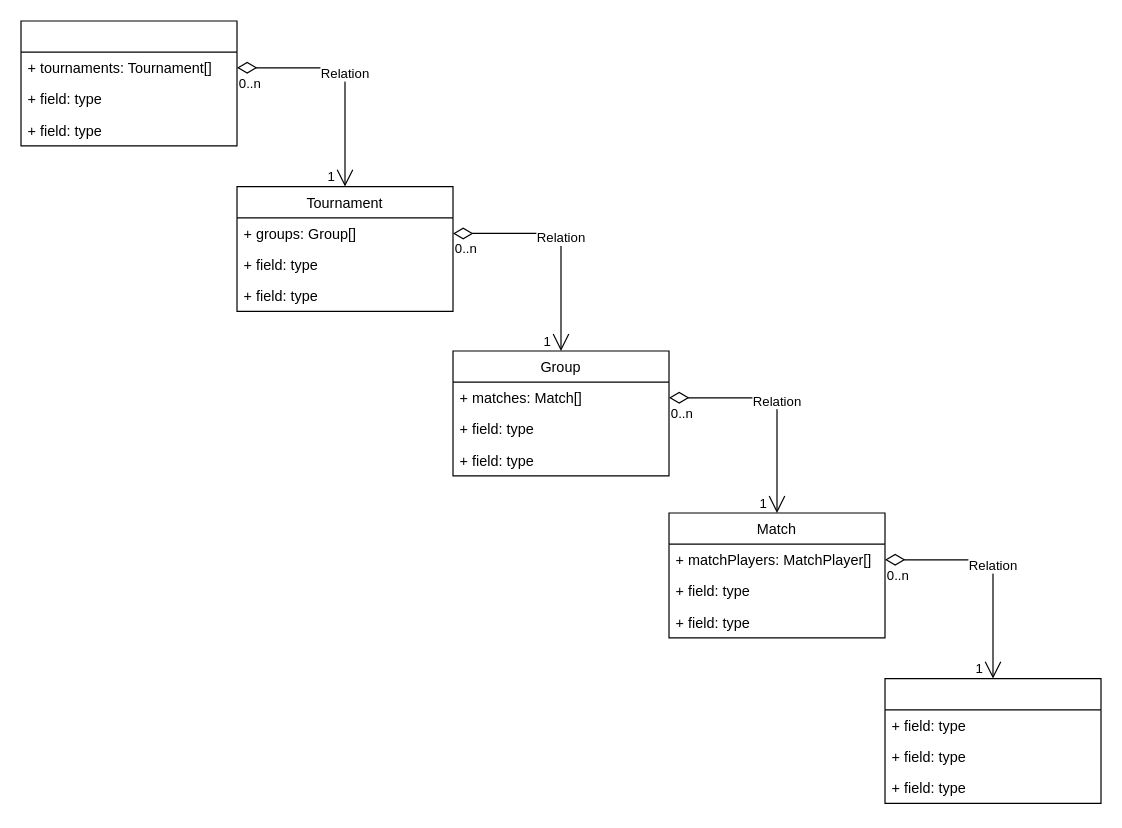
Some shapes in this 1122 by 828 pixel diagram are drawn without their labels. The shapes that lost their labels are listed below. From the top down, each one's box as (x1, y1, x2, y2) in pixels, then its label:
(20, 20, 237, 146): Season
(884, 677, 1101, 803): MatchPlayer
